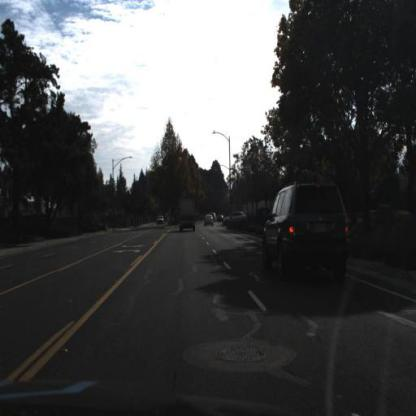car: (258, 177, 356, 283), (179, 193, 202, 237), (221, 211, 248, 228), (203, 210, 216, 229)
truck: (177, 194, 199, 236)
